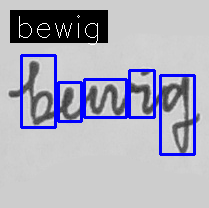b: (25, 57, 55, 128)
e: (58, 84, 81, 123)
g: (158, 74, 193, 156)
i: (137, 65, 154, 116)
w: (85, 81, 134, 118)
